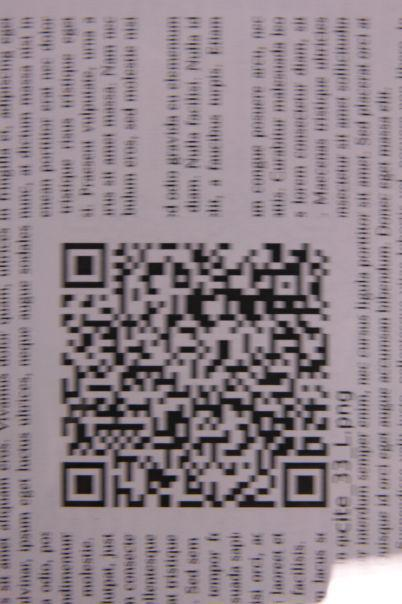Finder pattern: (53, 236, 114, 298), (279, 454, 336, 515), (56, 455, 112, 515)
